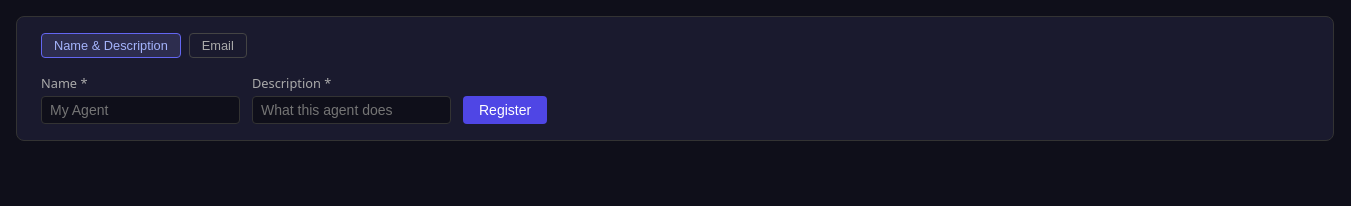
Test case: RegisterPanel › shows server error message
Click the button with test id "mode-email": (218,46) top-left (189, 33), bottom-right (247, 58)
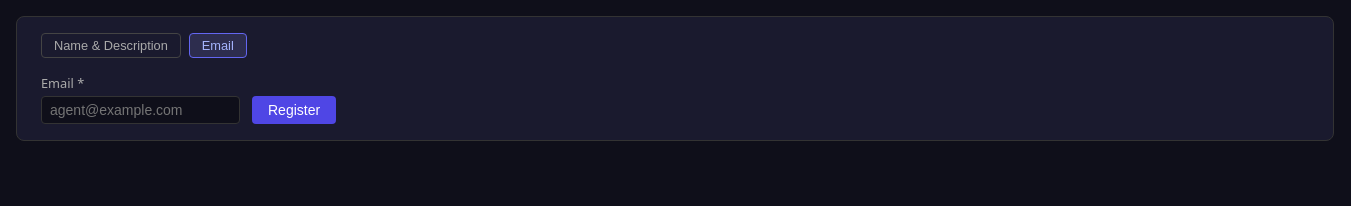
In the field with test id "input-email": (140,110) top-left (41, 96), bottom-right (240, 124), type "test@example.com"
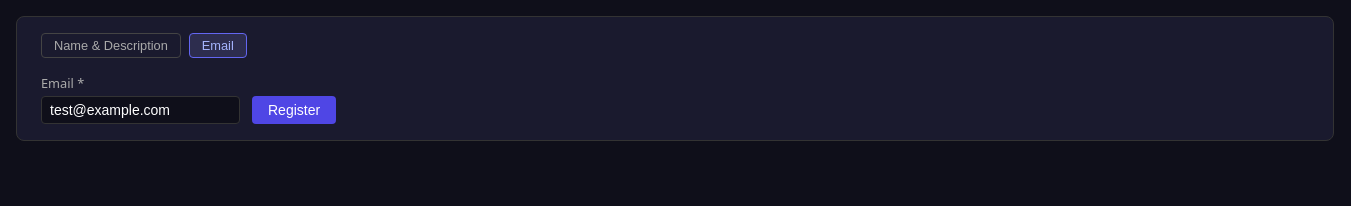
Click the button with test id "register-btn": (294,110) top-left (252, 96), bottom-right (336, 124)
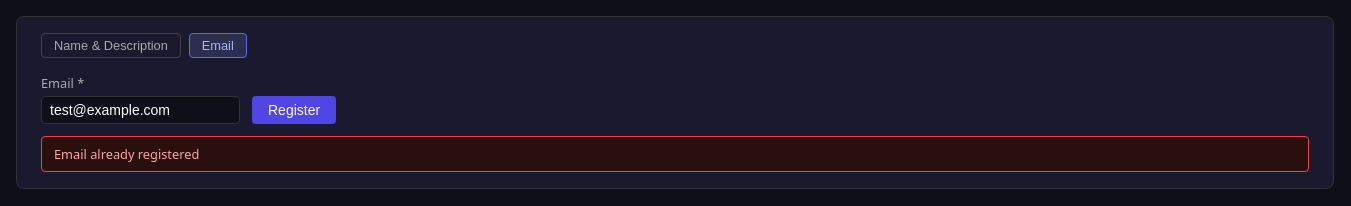
Check: the text with test id "register-error" reads "Email already registered", box top-left (54, 145), bottom-right (199, 163)
